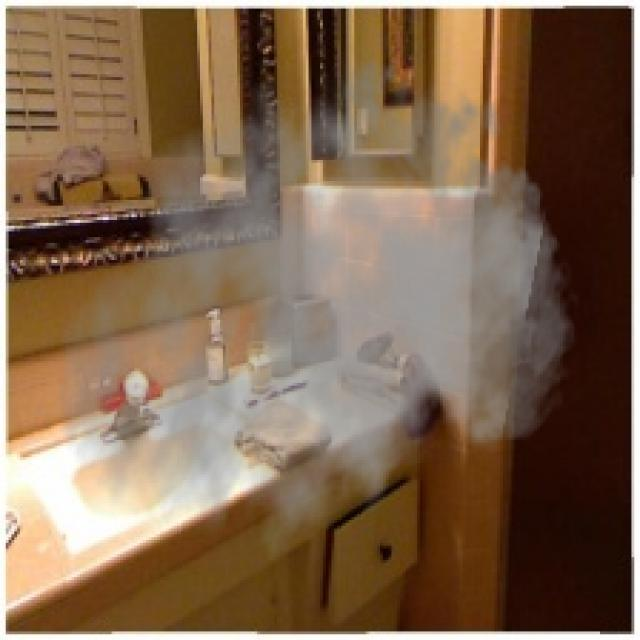Smoke: (54, 37, 583, 583)
